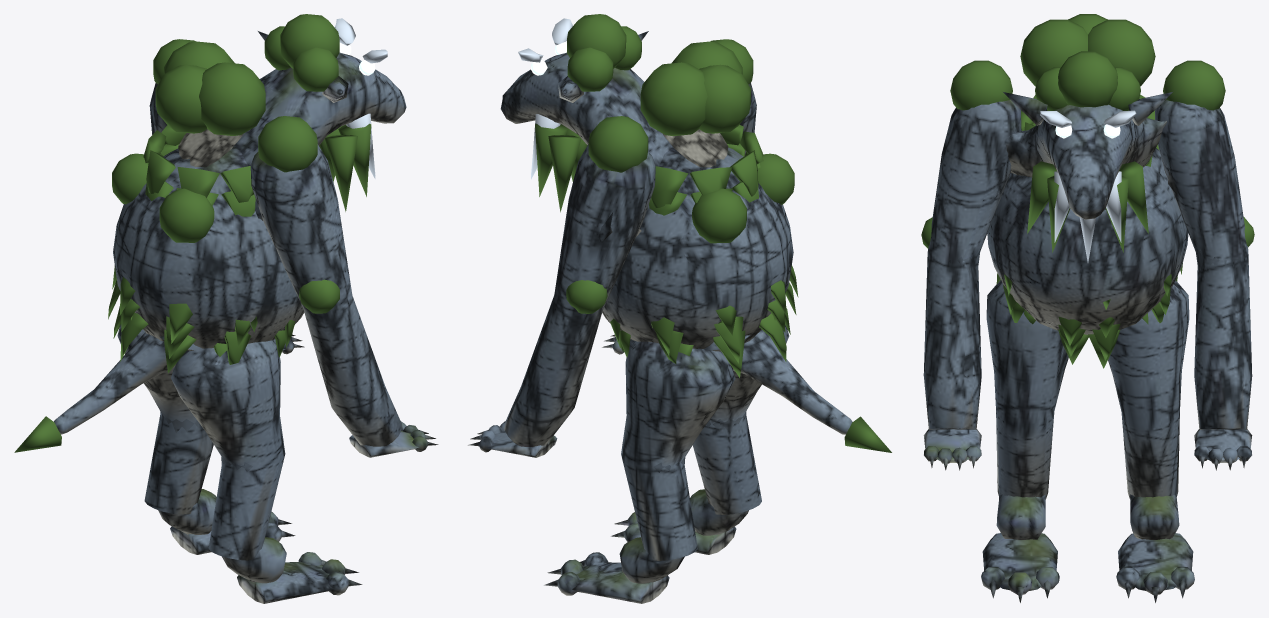
The model's file is troll.glb.
The picture shows the model from 3 angles, left to right: view 1: azimuth 30°, elevation 25°; view 2: azimuth 150°, elevation 25°; view 3: azimuth 270°, elevation 25°; orthographic projection.
Visible parts, largest first — view 1: troll.001; view 2: troll.001; view 3: troll.001.
Boxes of the visible parts, box(x1,y1,x2,y2) form: troll.001: box(14, 14, 438, 603); troll.001: box(468, 14, 891, 603); troll.001: box(921, 14, 1254, 602).
Size of the model in its own units: 1.89 by 2.49 by 1.38.
4 materials, 1 textured.
